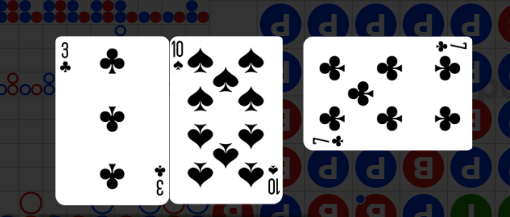10S: (267, 163, 281, 196)
3C: (58, 41, 73, 75)
7C: (433, 39, 468, 54)
